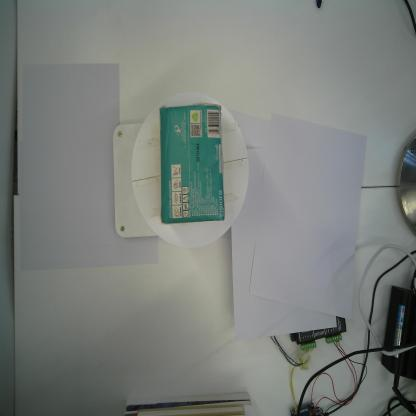Tissue: (158, 101, 227, 226)
